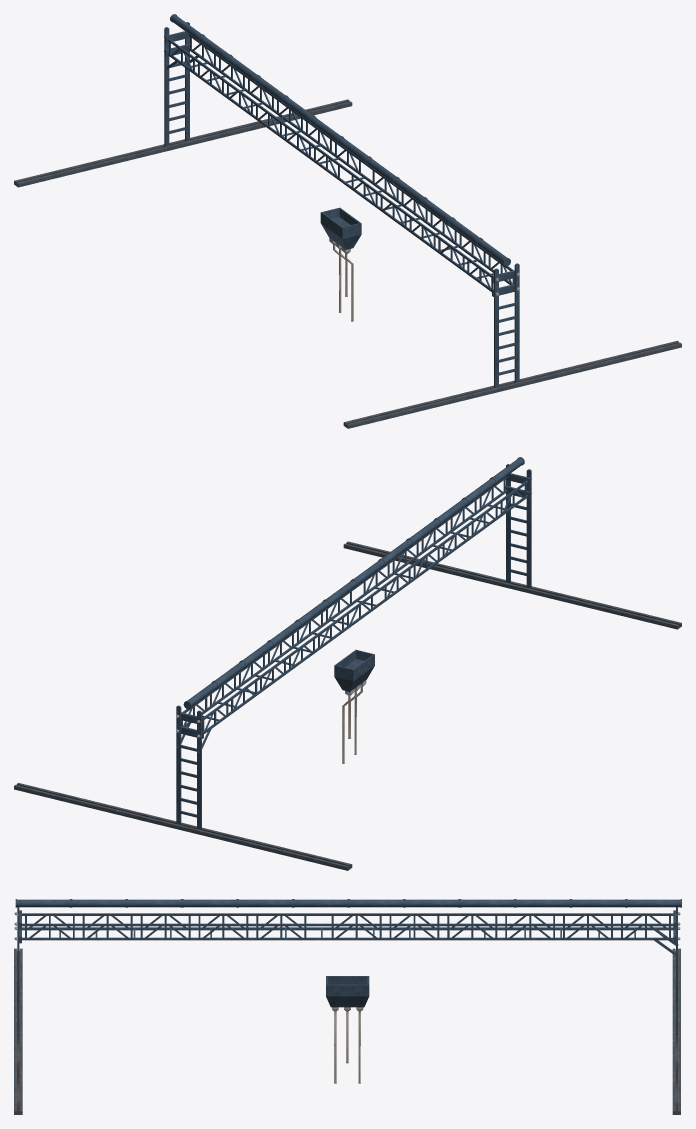
Rendered from toushiji.FBX.
The picture shows the model from 3 angles, top to bottom: view 1: azimuth 30°, elevation 25°; view 2: azimuth 150°, elevation 25°; view 3: azimuth 270°, elevation 25°; orthographic projection.
Visible parts, largest first — view 1: Box63, Box04, Cylinder16, Box75; view 2: Box63, Box04, Cylinder16, Box75, Box25; view 3: Box63, Cylinder16, Box04, Box75, Box25.
Part boxes in pixels (x1,y1,x2,y2): Box63: [164, 22, 519, 387]; Box04: [14, 99, 681, 428]; Cylinder16: [170, 14, 510, 266]; Box75: [321, 207, 361, 249]; Box63: [176, 464, 531, 830]; Box04: [14, 541, 681, 870]; Cylinder16: [183, 457, 524, 709]; Box75: [334, 651, 374, 691]; Box25: [334, 649, 374, 691]; Box63: [17, 907, 678, 1035]; Cylinder16: [15, 899, 681, 907]; Box04: [14, 948, 680, 1114]; Box75: [339, 976, 369, 1007]; Box25: [326, 976, 349, 1007].
Bounding box in the file's own units: 1280 × 664 × 2221.
2 materials, 2 textured.
